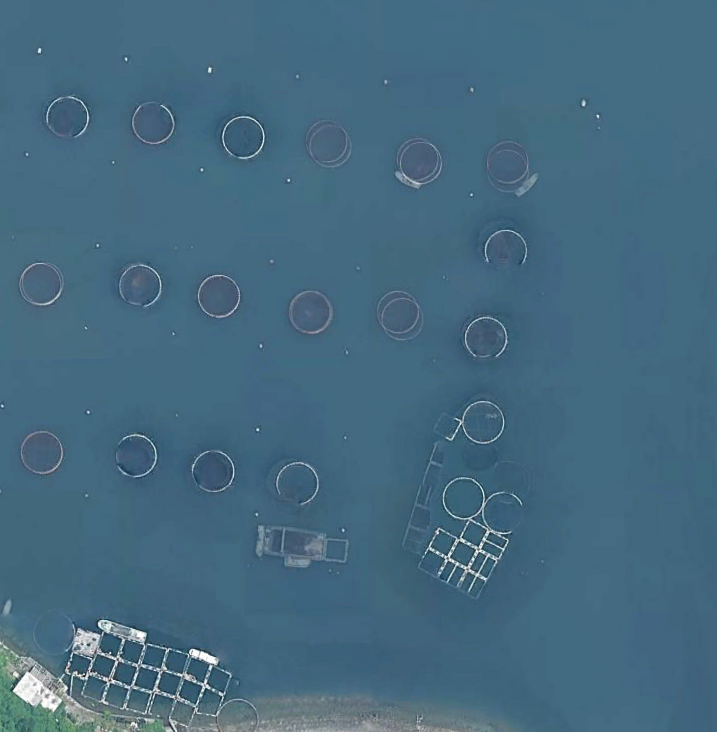circle: (11, 252, 74, 322), (270, 446, 334, 511), (103, 419, 166, 482), (11, 416, 71, 479), (295, 114, 359, 173), (186, 267, 248, 323), (119, 95, 177, 154), (208, 110, 268, 167), (115, 256, 171, 317), (182, 437, 238, 498), (476, 215, 533, 273), (455, 307, 513, 363), (391, 134, 445, 191), (34, 600, 81, 662), (457, 397, 513, 449), (481, 134, 534, 188), (376, 283, 429, 337), (285, 282, 334, 339), (37, 92, 93, 141), (471, 487, 522, 538), (444, 470, 490, 524), (205, 694, 266, 732)
house: (15, 662, 67, 716)
square: (282, 522, 325, 569), (250, 519, 289, 558), (75, 667, 112, 707), (106, 653, 143, 691), (422, 437, 462, 470), (425, 525, 461, 560), (320, 532, 354, 569), (151, 670, 186, 705), (98, 678, 130, 716), (431, 409, 466, 443), (85, 647, 119, 682), (418, 545, 451, 579), (204, 664, 235, 700), (476, 522, 506, 559), (70, 625, 102, 659), (181, 657, 212, 691), (131, 664, 162, 698), (158, 646, 188, 680), (122, 688, 154, 719), (164, 697, 196, 727), (114, 634, 143, 667), (460, 513, 488, 547), (448, 536, 476, 570), (459, 569, 488, 601), (174, 679, 207, 707), (137, 643, 169, 671), (464, 551, 495, 579), (145, 691, 173, 721), (62, 652, 93, 679), (96, 627, 122, 658), (440, 558, 466, 588)
